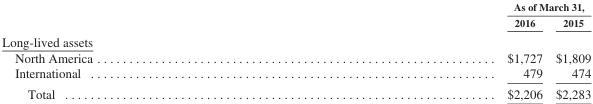table: (1, 0, 590, 100)
table column: (1, 0, 299, 100), (299, 0, 548, 100), (548, 0, 590, 100)
table column header: (1, 0, 590, 31)
table projected row header: (1, 31, 590, 49)
table row: (1, 31, 590, 49), (1, 65, 590, 83), (1, 14, 590, 31), (1, 83, 590, 100), (1, 49, 590, 65), (1, 0, 590, 14)
table spanning cell: (299, 0, 590, 14)
